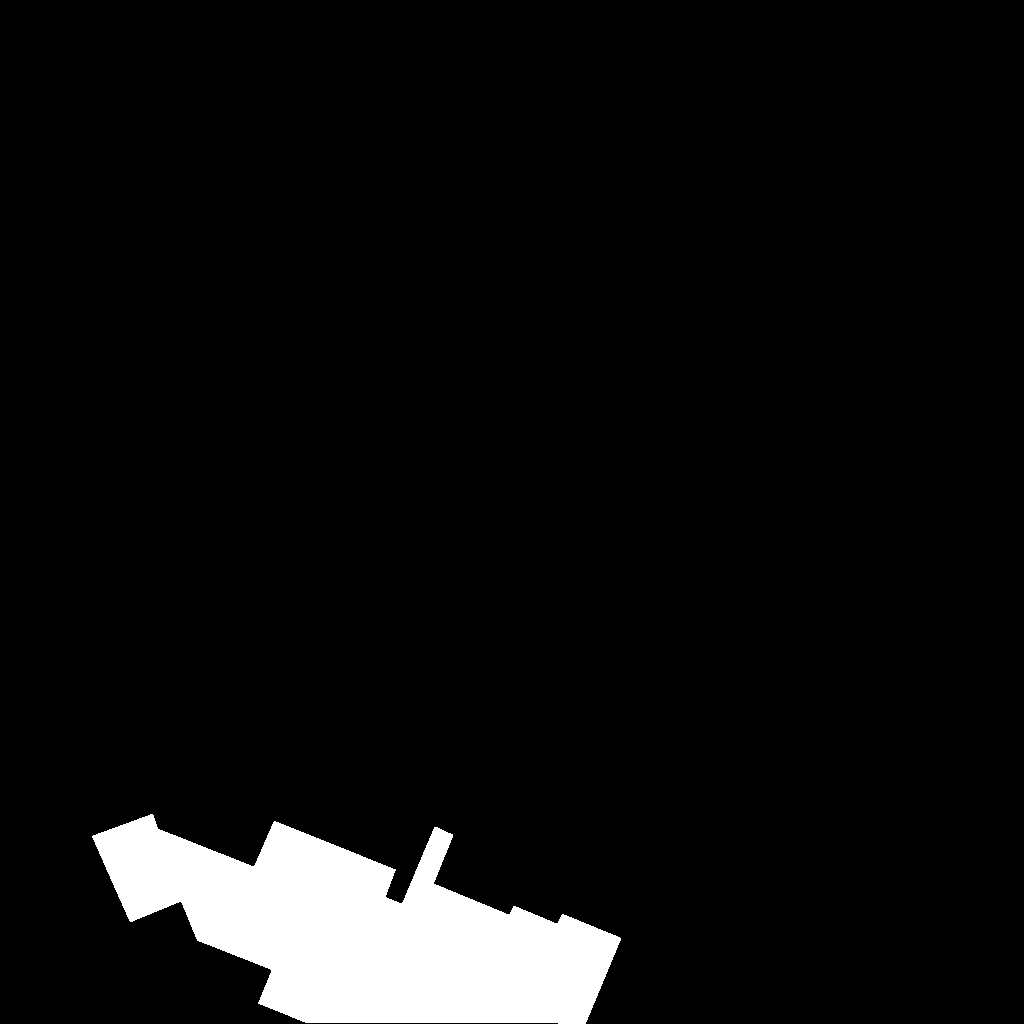building: (92, 814, 622, 1024)
